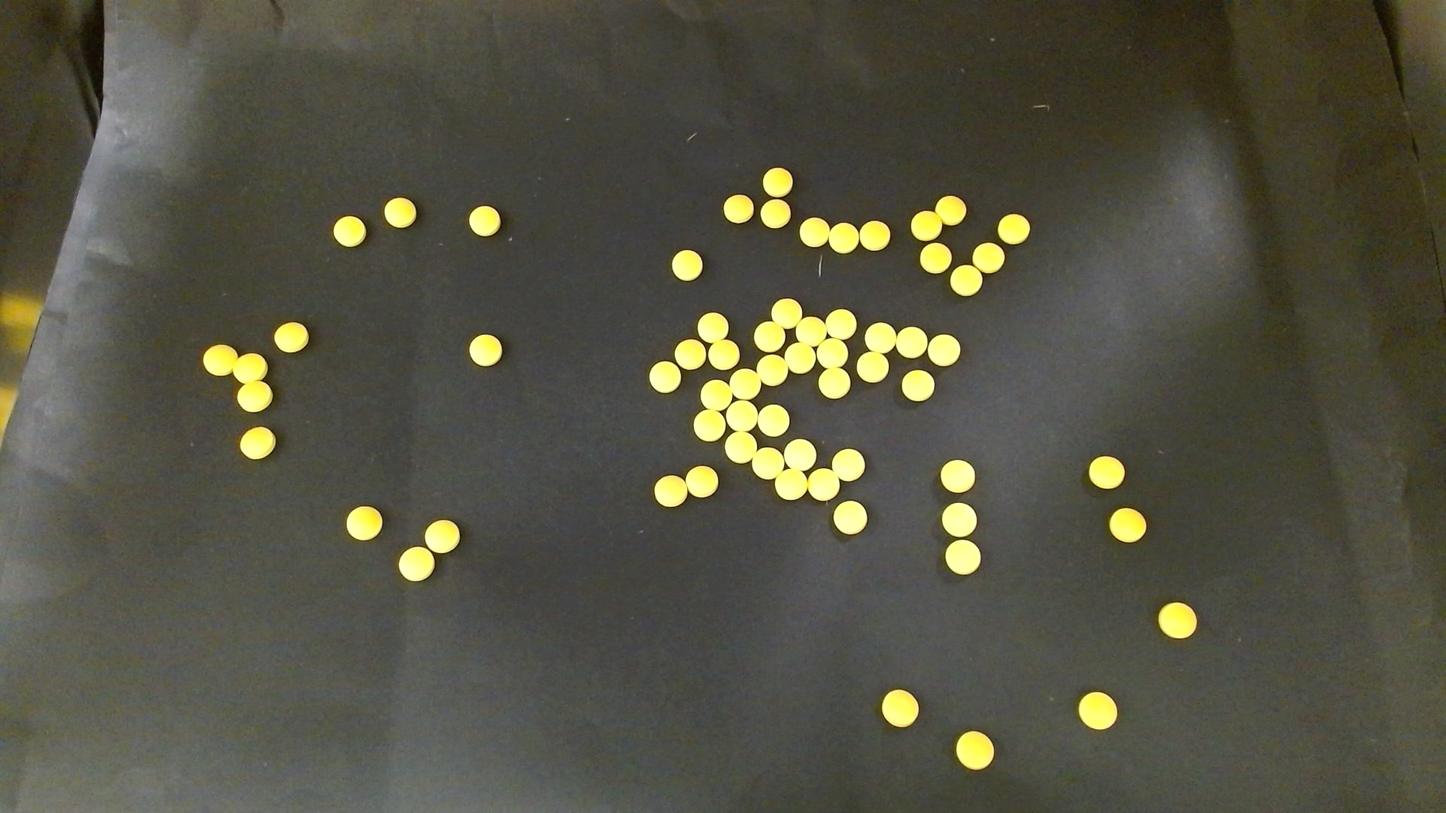Circle: (1077, 690, 1118, 730), (954, 730, 994, 769), (938, 458, 977, 496), (881, 689, 919, 727), (1157, 602, 1196, 639), (346, 504, 383, 540), (1110, 508, 1148, 543), (397, 546, 433, 582), (945, 540, 982, 575), (238, 426, 276, 460), (424, 519, 460, 554), (941, 501, 977, 536), (1088, 455, 1125, 489), (831, 501, 868, 535), (236, 380, 273, 413), (653, 473, 688, 507), (273, 321, 309, 354), (203, 343, 239, 376), (468, 333, 502, 366), (670, 248, 703, 282), (332, 215, 367, 247), (935, 195, 969, 227), (808, 467, 839, 502), (832, 449, 865, 481), (919, 242, 951, 274), (818, 367, 850, 399), (468, 205, 501, 236), (708, 339, 741, 370), (901, 370, 934, 401), (996, 213, 1030, 243), (384, 197, 416, 228), (694, 409, 725, 441), (758, 405, 789, 437), (895, 326, 926, 358), (784, 439, 816, 470), (753, 321, 785, 352), (762, 166, 793, 197), (950, 265, 981, 296), (864, 322, 895, 353), (700, 379, 731, 410), (648, 361, 679, 392), (697, 312, 729, 342), (752, 448, 782, 480), (727, 399, 757, 431), (725, 431, 755, 463), (674, 339, 706, 369), (774, 470, 805, 500), (686, 466, 717, 496), (929, 334, 959, 365), (729, 370, 760, 400), (857, 352, 888, 382), (757, 354, 787, 385), (795, 316, 826, 346), (721, 194, 753, 223), (235, 352, 267, 381), (859, 221, 889, 251), (972, 241, 1002, 271), (772, 297, 802, 327), (784, 342, 814, 372), (817, 337, 847, 367), (825, 309, 856, 338), (911, 209, 941, 238), (799, 217, 828, 247), (830, 223, 858, 252), (761, 200, 790, 227)
